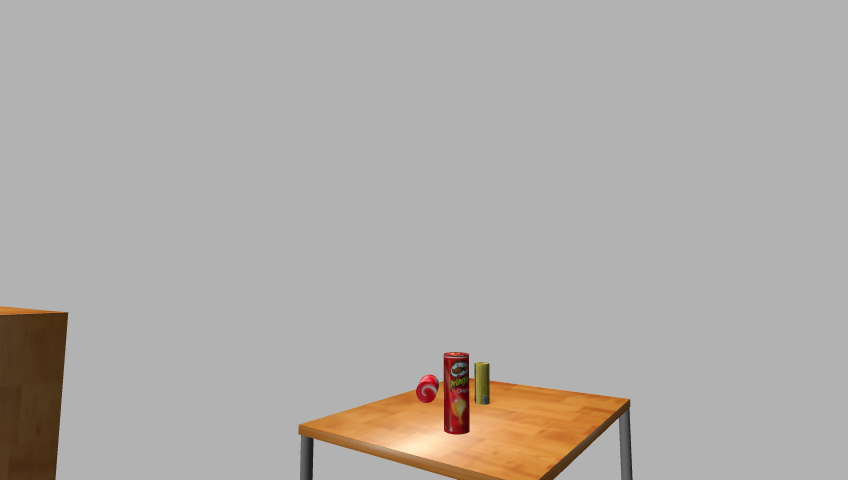biscuits pack: (472, 361, 492, 406)
bookshelf: (0, 305, 75, 480)
coke can: (415, 374, 440, 405)
dinner table: (290, 379, 641, 480)
pringles can: (441, 351, 472, 436)
